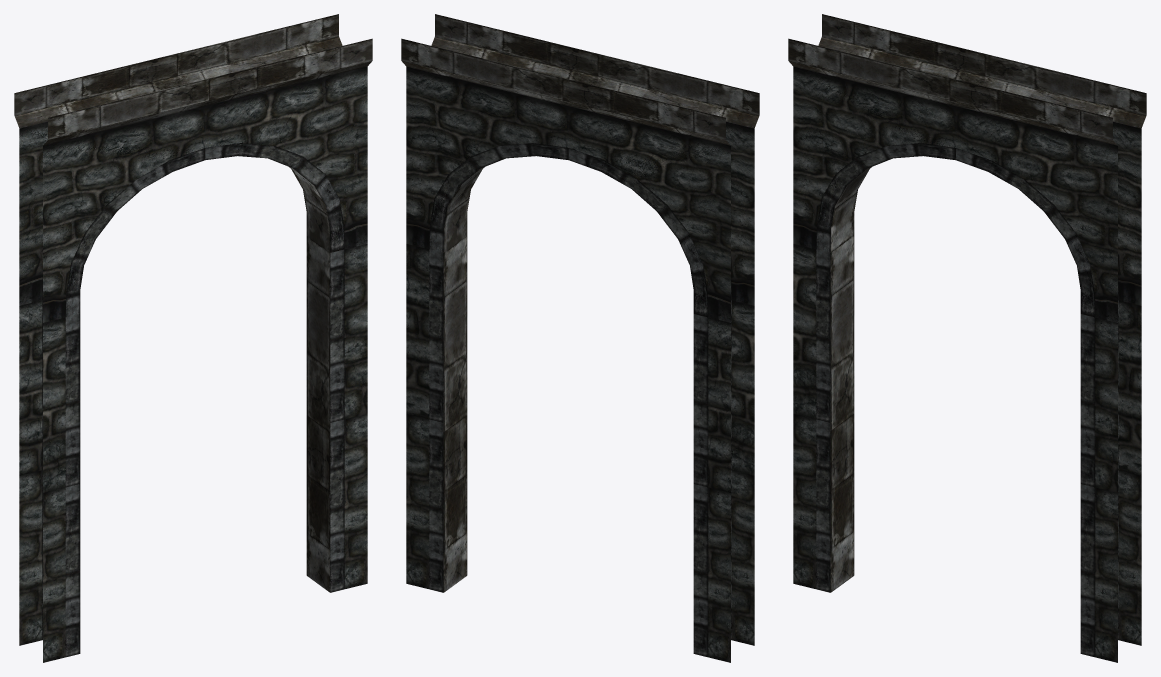
Rendered from welder_convex_arch_church.DAE.
3 views of the same model, side by side, from view 1: azimuth 30°, elevation 25°; view 2: azimuth 150°, elevation 25°; view 3: azimuth 330°, elevation 25° (orthographic).
Parts seen in each view (by area): view 1: Box003; view 2: Box003; view 3: Box003.
Part boxes in pixels (x1,y1,x2,y2): Box003: (14, 14, 372, 662); Box003: (401, 14, 759, 662); Box003: (788, 14, 1146, 662).
Size of the model in its own units: 4 by 6.46 by 0.717.
